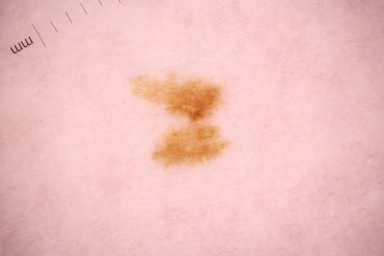nevus: (131, 74, 220, 123), (155, 127, 225, 163)
